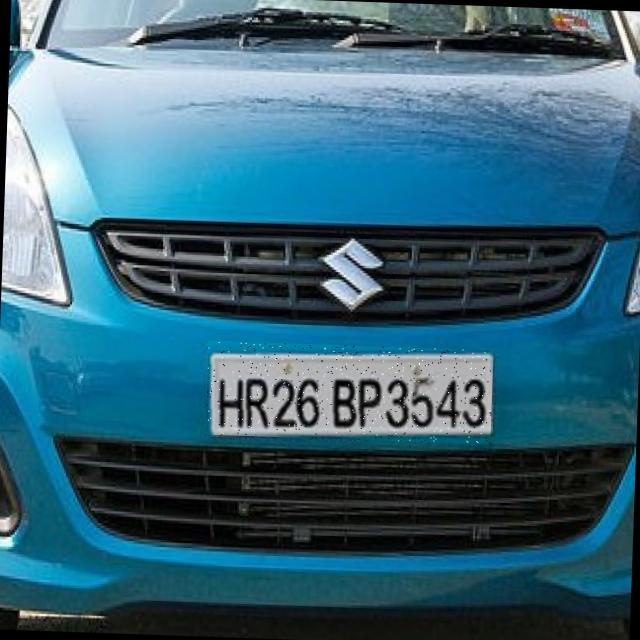Plate: (206, 341, 494, 445)
